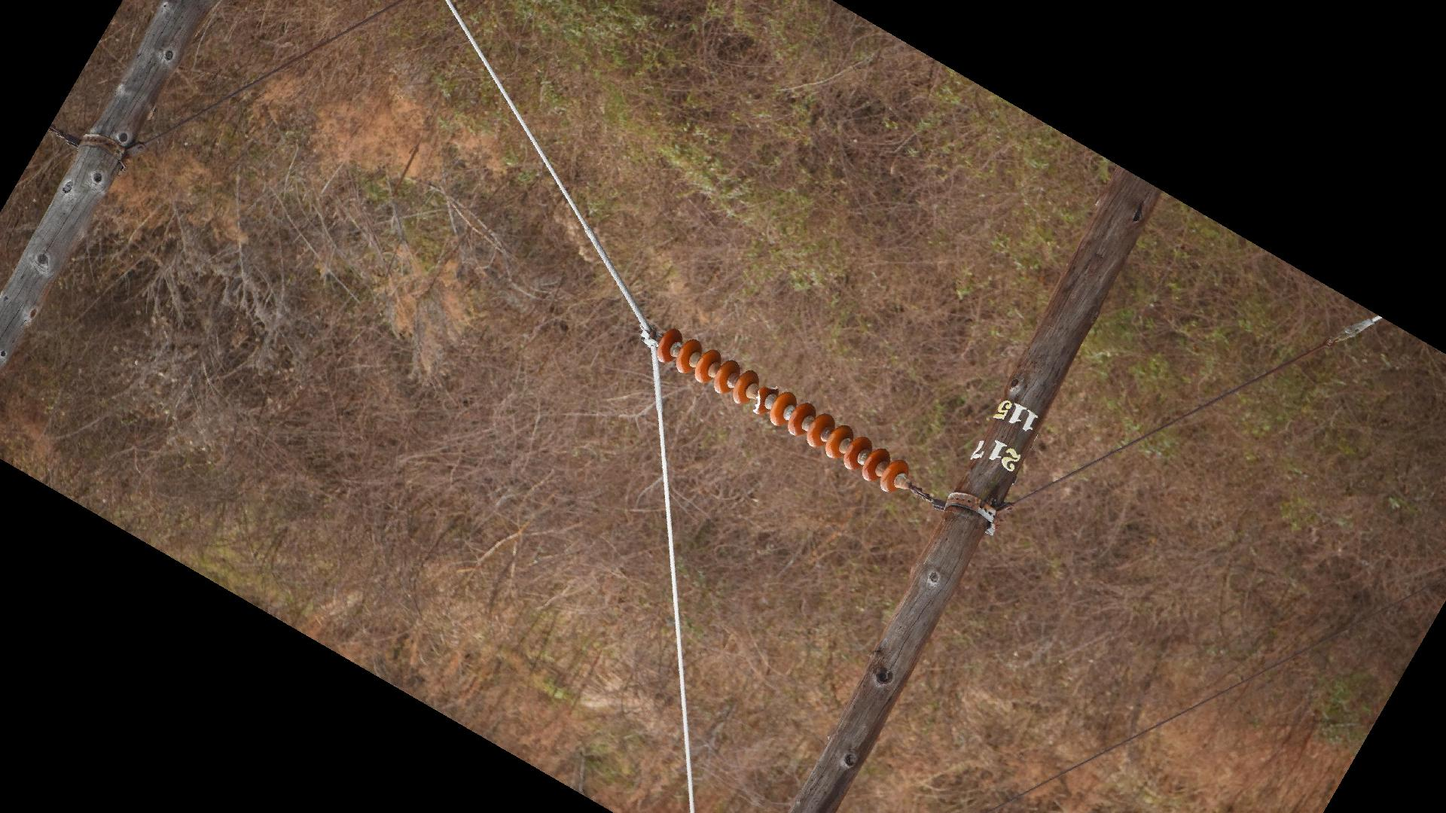insulator: (653, 327, 914, 498)
insulator_breakage: (750, 386, 764, 416), (759, 384, 782, 394)
